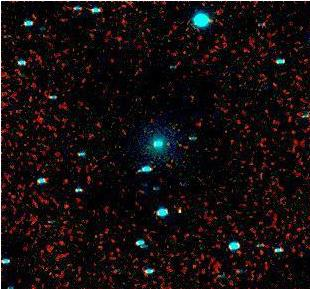star: (167, 194, 197, 224)
